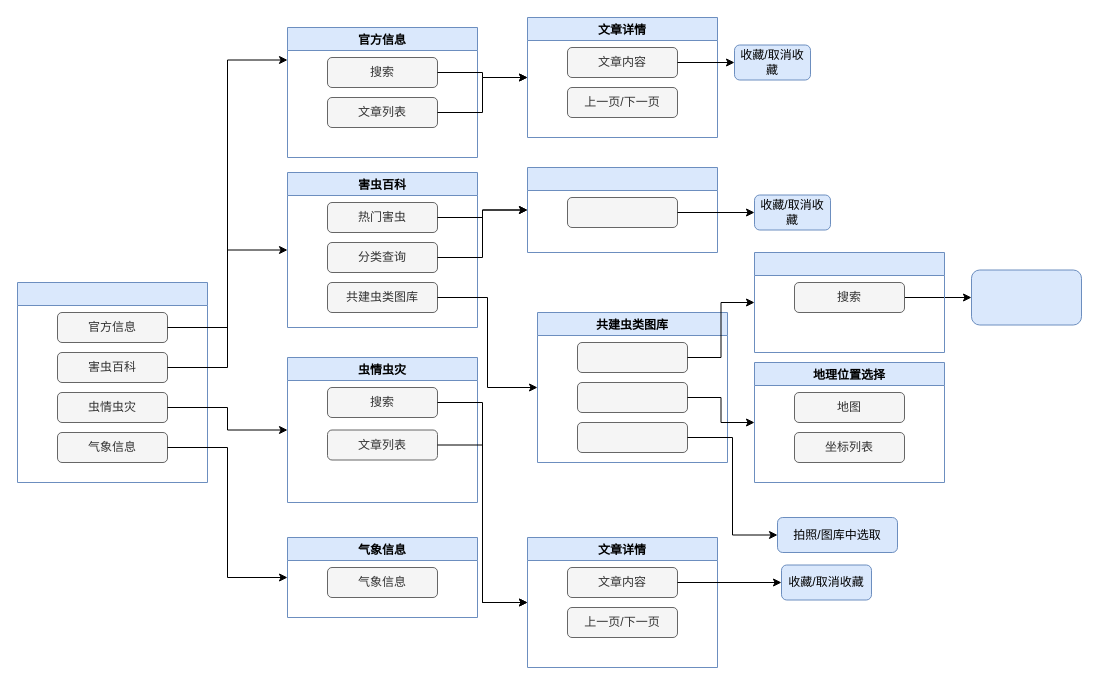
The diagram is 1099 pixels wide and 685 high, and some of its shapes have lost their labels. The shapes that lost their labels are listed below. From the top down, each one's box as (x1, y1, x2, y2) in pixels, then its label:
(526, 166, 718, 252): 昆虫详情
(566, 196, 678, 228): 昆虫介绍
(754, 252, 944, 352): 昆虫名称选择
(970, 269, 1082, 325): 选择已有昆虫名称/新建昆虫名称
(576, 342, 688, 372): 选择昆虫名称
(16, 282, 208, 482): 信息模块
(576, 382, 688, 412): 选择地理位置
(576, 422, 688, 452): 选择图片
